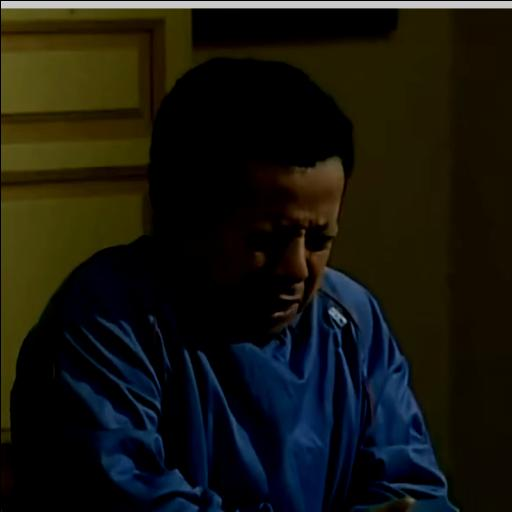fouchika: (150, 59, 353, 342)
